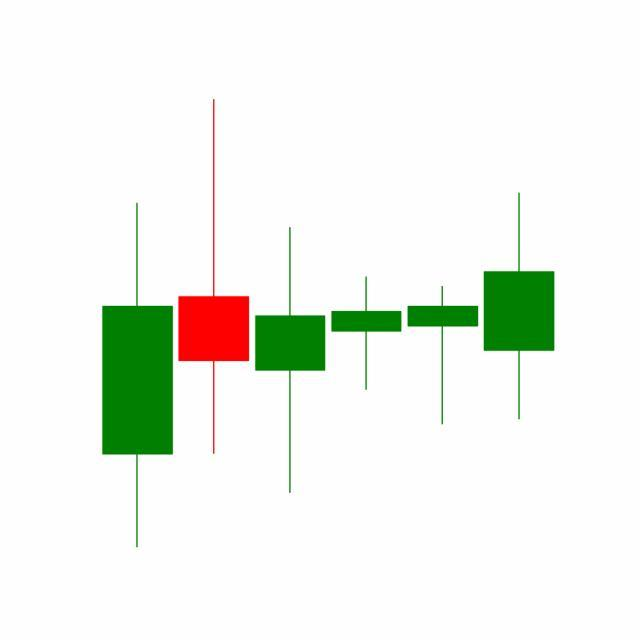Hikkake Pattern: (175, 99, 555, 499)
